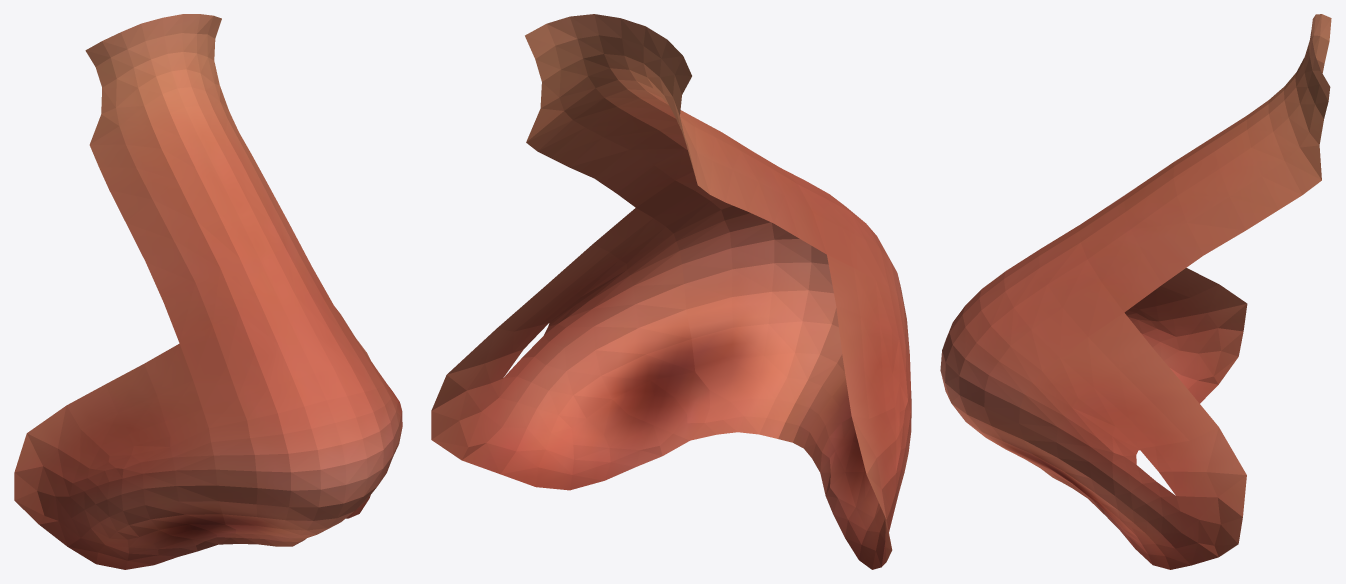
Rendered from euro-nose-male-avg.obj.
3 views of the same model, side by side, from view 1: azimuth 30°, elevation 25°; view 2: azimuth 150°, elevation 25°; view 3: azimuth 270°, elevation 25° (orthographic). The views are drawn at different scales.
Visible parts, largest first — view 1: euro-nose-male-av; view 2: euro-nose-male-av; view 3: euro-nose-male-av.
Boxes of the visible parts, x1=… form: euro-nose-male-av: x1=14, y1=14, x2=402, y2=569; euro-nose-male-av: x1=431, y1=14, x2=911, y2=569; euro-nose-male-av: x1=940, y1=14, x2=1331, y2=569.
Size of the model in its own units: 0.4637 by 0.5561 by 0.4125.
1 material, 1 textured.
